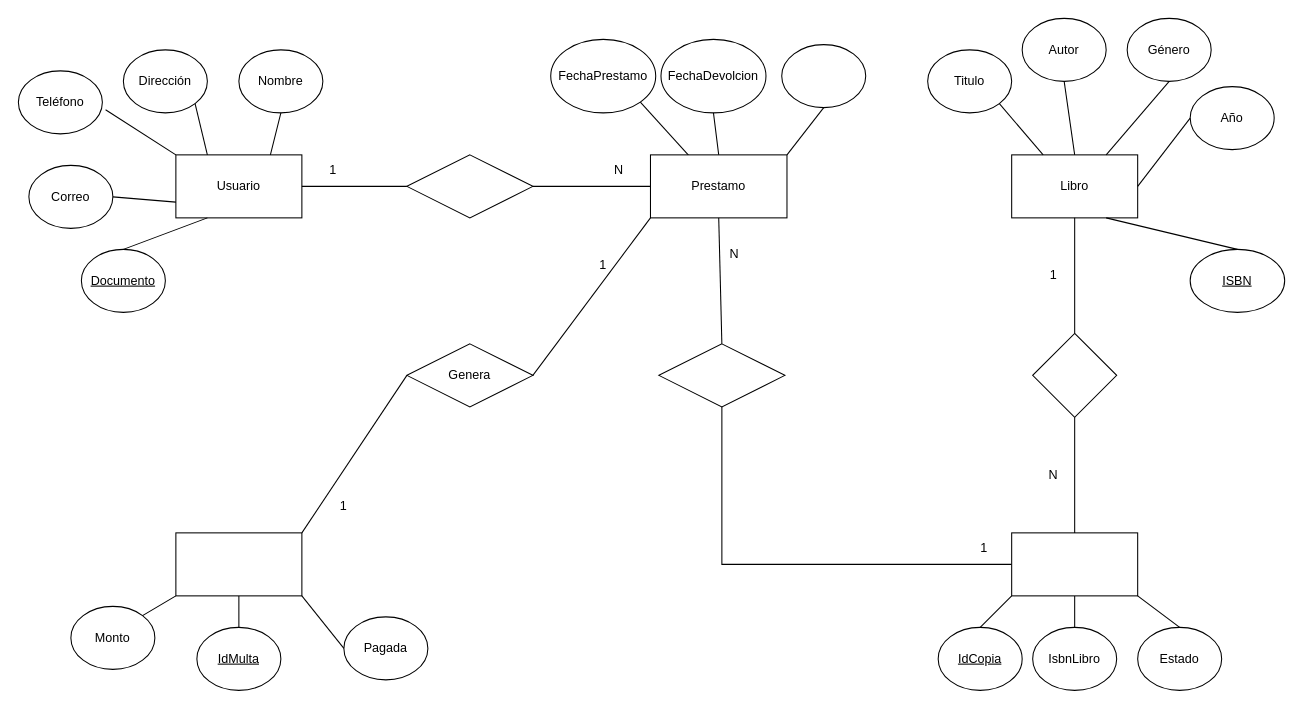
The diagram is 1303 pixels wide and 709 high, and some of its shapes have lost their labels. The centre of each missing label's shape, as x and y in pixels:
Contiene: the point at 721,375
CopiaLibro: the point at 1074,564
Hace: the point at 469,186
IdPrestamo: the point at 823,76
Multa: the point at 238,564
Tiene: the point at 1074,374
